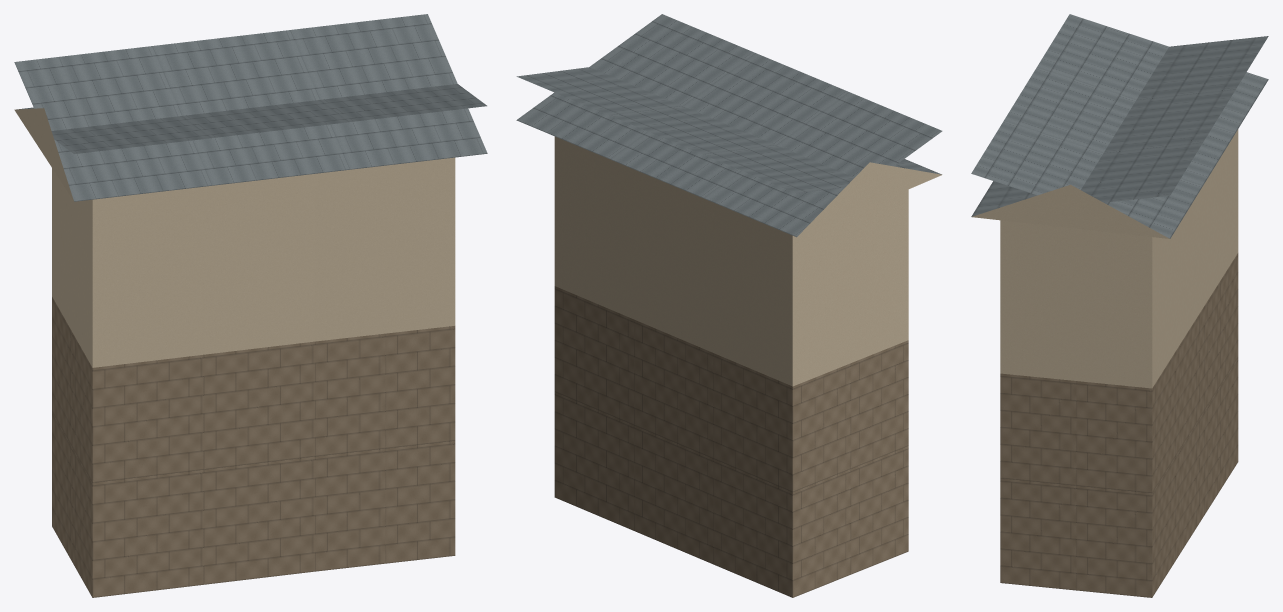
File: bld_c23_46_391.gltf
3 renders of one model, left to right at view 1: azimuth 30°, elevation 25°; view 2: azimuth 150°, elevation 25°; view 3: azimuth 270°, elevation 25°, orthographic. The views are drawn at different scales.
Visible parts, largest first — view 1: bld_c23_46_391; view 2: bld_c23_46_391; view 3: bld_c23_46_391.
Boxes of the visible parts, x1=… form: bld_c23_46_391: x1=14, y1=14, x2=487, y2=597; bld_c23_46_391: x1=516, y1=14, x2=942, y2=597; bld_c23_46_391: x1=971, y1=14, x2=1268, y2=597.
Size of the model in its own units: 8.98 by 9.6 by 6.22.
Materials: 4 (4 with a texture image).
